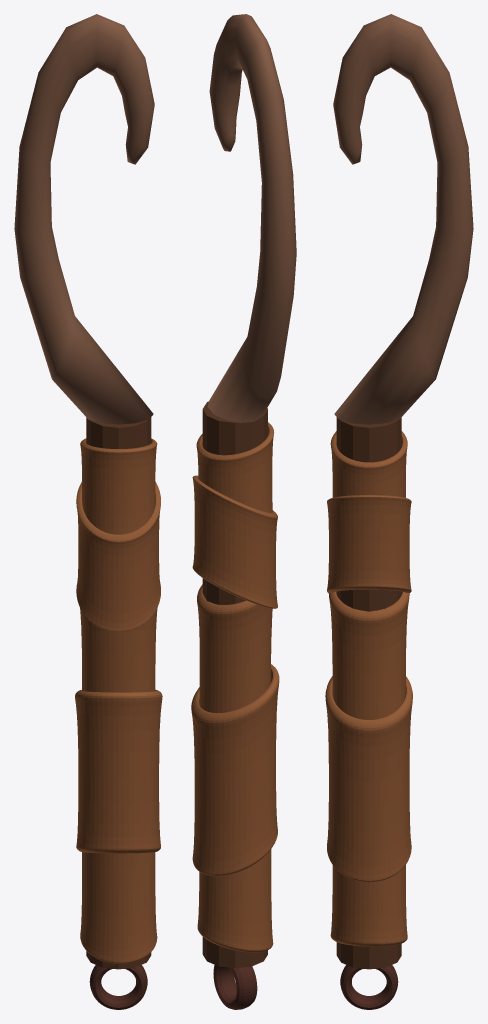
The model's file is Wand 381.glb.
3 renders of one model, left to right at view 1: azimuth 90°, elevation 25°; view 2: azimuth 210°, elevation 25°; view 3: azimuth 270°, elevation 25°, orthographic.
Parts seen in each view (by area): view 1: GeneratedWand; view 2: GeneratedWand; view 3: GeneratedWand.
Part boxes in pixels (x1=…): GeneratedWand: x1=14, y1=14, x2=162, y2=1009; GeneratedWand: x1=191, y1=14, x2=296, y2=1009; GeneratedWand: x1=325, y1=14, x2=473, y2=1009.
Size of the model in its own units: 0.0408 by 0.5112 by 0.069.
